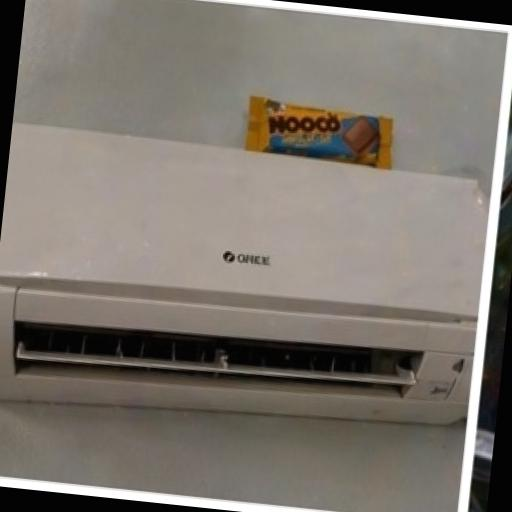biscuit-detection: (237, 78, 424, 200)
